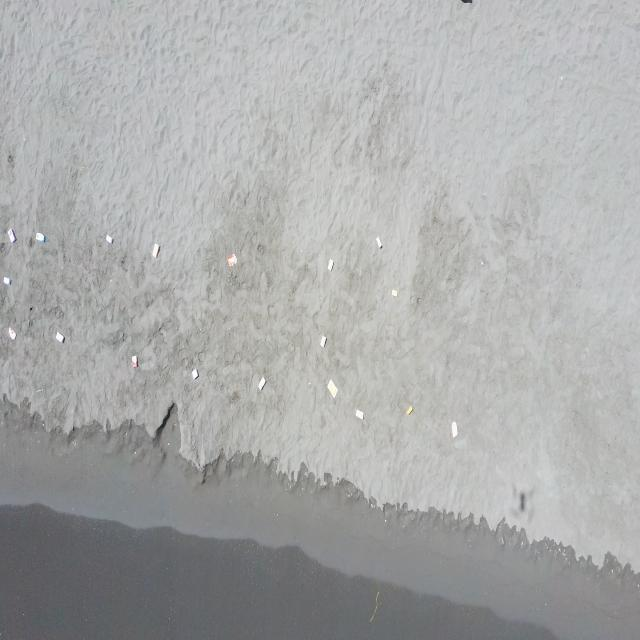Garbage: (368, 592, 379, 623), (327, 379, 336, 397), (227, 252, 236, 267), (151, 243, 159, 256), (8, 327, 16, 339), (55, 332, 64, 342), (404, 404, 412, 415), (355, 408, 363, 419), (451, 420, 456, 437), (258, 376, 264, 390), (8, 227, 14, 241), (192, 367, 198, 380), (375, 236, 382, 247), (320, 335, 326, 347), (35, 232, 43, 241), (131, 355, 137, 367), (3, 276, 11, 284), (105, 233, 111, 243), (327, 259, 332, 270), (392, 288, 396, 296)
